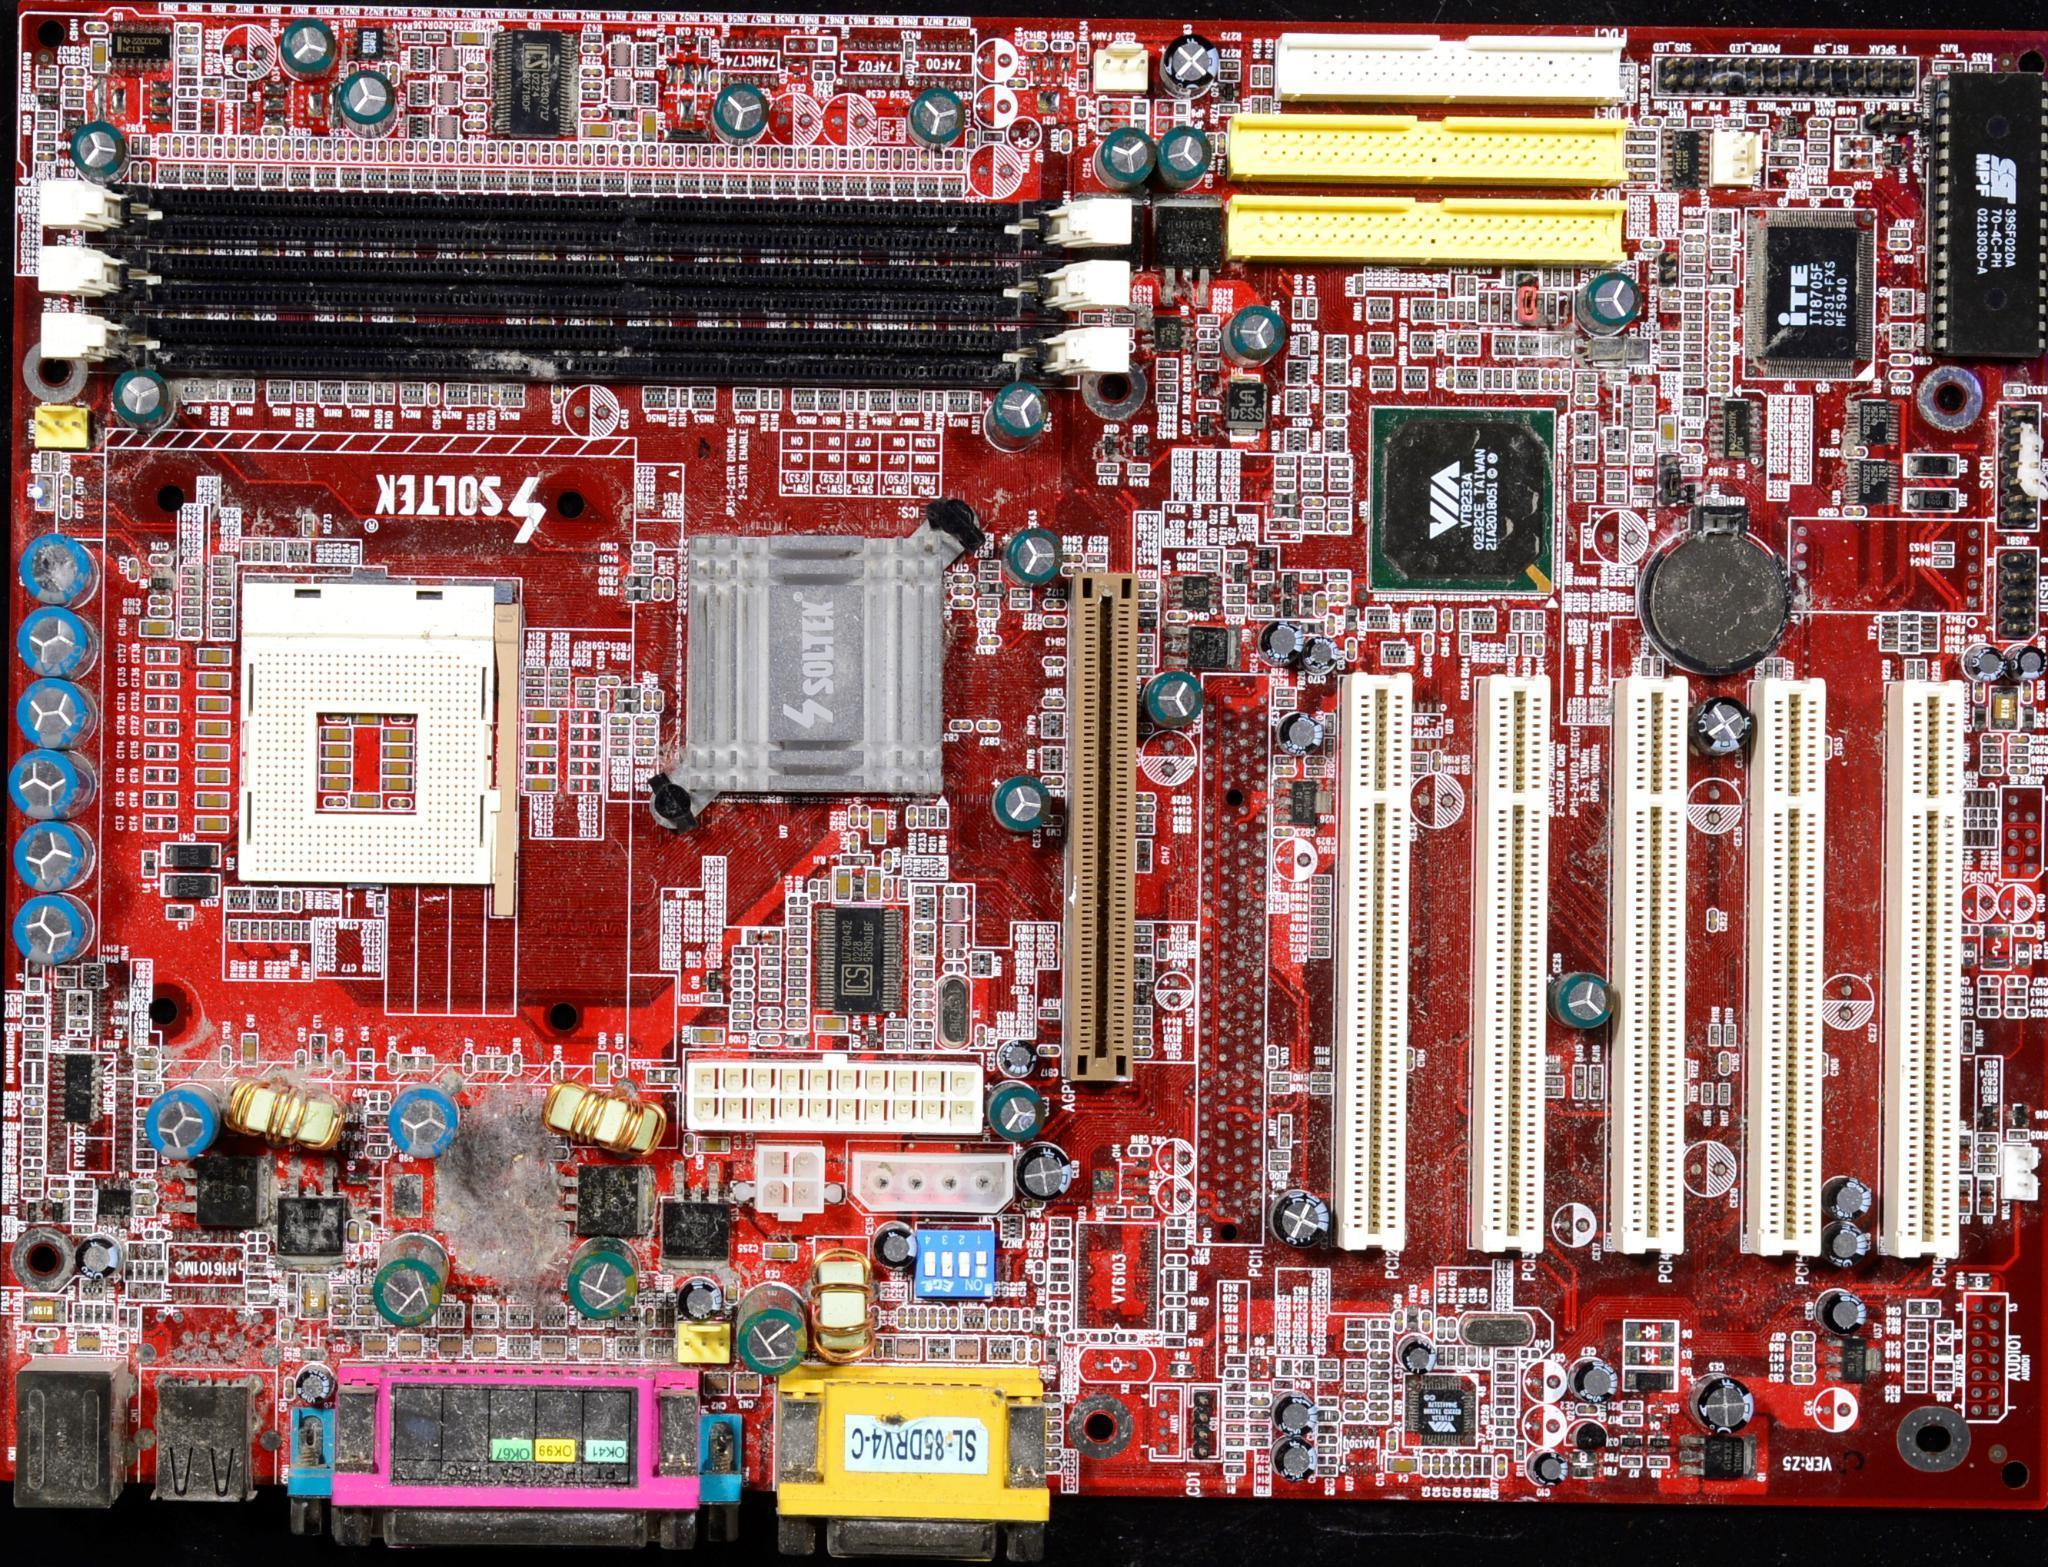Capacitor: (197, 647, 232, 666), (310, 1037, 329, 1071), (593, 1052, 611, 1086), (641, 110, 660, 141), (869, 810, 887, 842), (833, 868, 851, 900), (691, 1027, 723, 1045), (319, 757, 350, 775), (90, 40, 109, 69), (1659, 417, 1675, 451), (138, 619, 172, 635), (319, 726, 351, 743), (195, 744, 229, 760), (762, 1244, 798, 1259), (349, 792, 382, 808), (400, 1055, 433, 1071), (198, 791, 229, 808), (1385, 1458, 1417, 1474), (318, 742, 352, 757), (866, 868, 881, 900), (814, 1016, 846, 1031), (241, 1033, 256, 1065), (198, 720, 230, 735), (382, 759, 410, 776), (523, 743, 557, 757), (453, 32, 489, 45), (196, 769, 226, 784), (383, 727, 411, 743), (524, 775, 557, 788), (320, 776, 350, 790), (383, 777, 413, 791), (358, 1048, 372, 1078), (198, 697, 228, 711), (525, 708, 557, 721), (382, 744, 411, 758), (615, 120, 639, 136), (617, 131, 641, 147), (197, 675, 229, 687), (199, 818, 228, 831), (136, 1056, 159, 1072), (20, 1094, 46, 1108), (462, 118, 490, 131), (511, 1053, 526, 1077), (1494, 1383, 1518, 1398), (579, 106, 604, 120), (176, 23, 201, 37), (1391, 1310, 1406, 1333), (176, 45, 202, 58), (706, 69, 720, 93), (579, 80, 603, 94), (1014, 1337, 1028, 1361), (1496, 1345, 1518, 1360), (86, 22, 108, 37), (1709, 289, 1734, 302), (1024, 40, 1049, 53), (1049, 40, 1074, 53), (613, 1053, 625, 1080), (2006, 1006, 2029, 1020), (1345, 638, 1359, 661), (551, 1059, 564, 1083), (1682, 243, 1706, 256), (1323, 615, 1337, 637), (1421, 632, 1435, 654), (332, 1049, 344, 1074), (33, 151, 58, 163), (1832, 186, 1855, 199), (581, 65, 604, 78), (63, 65, 86, 78), (353, 713, 382, 723), (756, 1033, 780, 1045), (465, 73, 487, 86), (1035, 1260, 1046, 1286), (907, 1305, 920, 1327), (927, 1306, 940, 1328), (1705, 343, 1733, 353), (881, 848, 893, 871), (1368, 1349, 1391, 1361), (1478, 1345, 1490, 1368), (1369, 1368, 1392, 1380), (1368, 1400, 1391, 1412), (1683, 232, 1706, 244), (464, 103, 489, 114), (1000, 1306, 1011, 1331), (1367, 1389, 1392, 1400), (582, 44, 603, 57), (1314, 595, 1327, 616), (636, 715, 657, 728), (1059, 132, 1073, 151), (911, 1009, 933, 1021), (1367, 1410, 1389, 1422), (1431, 1453, 1443, 1475), (131, 160, 142, 184), (1708, 301, 1732, 312), (1275, 764, 1295, 777), (65, 76, 85, 89), (386, 1052, 399, 1072), (460, 1054, 473, 1074), (136, 1193, 156, 1206), (916, 1306, 929, 1326), (884, 875, 895, 898), (202, 87, 225, 98), (1978, 1006, 2001, 1017), (1268, 1044, 1279, 1067), (989, 1306, 1000, 1329), (1467, 1344, 1478, 1367), (1368, 1381, 1391, 1392), (1344, 1411, 1367, 1422), (1575, 393, 1598, 404), (1404, 1048, 1416, 1069), (1029, 1338, 1041, 1359), (1641, 238, 1662, 250), (1972, 680, 1985, 699), (913, 920, 935, 931), (1720, 1053, 1731, 1075), (1493, 1426, 1515, 1437), (1452, 1454, 1463, 1476), (1132, 1046, 1152, 1058), (643, 1306, 655, 1326), (1421, 1308, 1431, 1332), (141, 161, 153, 181), (1709, 332, 1733, 342), (1708, 363, 1732, 373), (599, 675, 623, 685), (948, 1306, 959, 1327), (1461, 1455, 1472, 1476), (1217, 132, 1227, 155), (178, 627, 201, 637), (859, 805, 871, 824), (731, 1011, 756, 1020), (848, 834, 859, 854), (915, 978, 935, 989), (1050, 1238, 1072, 1248), (896, 1304, 907, 1324), (1496, 1361, 1516, 1372), (1710, 373, 1730, 384), (758, 1018, 782, 1027), (1249, 1396, 1273, 1405), (976, 1025, 986, 1046), (47, 1188, 68, 1198), (1369, 1358, 1390, 1368), (1343, 1399, 1364, 1409), (1711, 236, 1732, 246), (2022, 681, 2033, 700), (2009, 765, 2032, 774), (294, 1049, 306, 1066), (356, 1285, 376, 1295), (1443, 1456, 1453, 1476), (1707, 354, 1732, 362), (466, 61, 486, 71), (653, 689, 663, 709), (1981, 764, 2003, 773), (363, 1220, 372, 1242), (1247, 1410, 1269, 1419), (1542, 368, 1551, 390), (1711, 384, 1729, 395), (1325, 584, 1349, 592), (905, 805, 915, 824), (1039, 1045, 1058, 1055), (787, 1019, 808, 1028), (940, 1307, 949, 1328), (1369, 1329, 1390, 1338), (1421, 1455, 1432, 1472), (850, 806, 859, 826), (1807, 118, 1827, 127), (644, 1337, 654, 1355), (1496, 1374, 1516, 1383), (1495, 1394, 1515, 1403), (1498, 1456, 1507, 1476), (1792, 1363, 1814, 1371), (873, 1338, 882, 1357), (1551, 371, 1560, 390), (600, 691, 609, 710), (1326, 594, 1347, 602), (1223, 1369, 1245, 1376), (1134, 1037, 1151, 1046), (25, 1106, 41, 1115), (359, 1307, 376, 1313)
Connector: (1745, 675, 1832, 1264), (1337, 657, 1418, 1257), (1884, 676, 1967, 1236), (1615, 673, 1692, 1263), (1470, 666, 1545, 1267)
IC: (679, 533, 943, 795), (1364, 400, 1562, 601), (1746, 206, 1874, 380), (817, 904, 902, 1013), (491, 31, 573, 136), (46, 1051, 112, 1136), (1405, 1370, 1477, 1447), (113, 21, 178, 76), (1271, 778, 1336, 827), (1709, 398, 1759, 461), (1660, 129, 1710, 191), (1825, 1333, 1883, 1382), (1845, 398, 1899, 445), (1846, 458, 1901, 504), (1166, 574, 1220, 614), (345, 24, 397, 62), (95, 1179, 130, 1228), (1141, 315, 1185, 352), (1883, 142, 1909, 170), (1036, 89, 1060, 115), (149, 570, 174, 592)
Resistor: (34, 139, 60, 156), (1504, 636, 1521, 658), (136, 1070, 159, 1086), (1094, 463, 1122, 476), (1156, 380, 1180, 395), (128, 133, 143, 156), (401, 31, 424, 46), (32, 122, 58, 135), (1272, 695, 1298, 708), (1223, 1393, 1247, 1407), (1444, 1343, 1459, 1365), (1155, 368, 1180, 381), (1632, 451, 1655, 465), (135, 1086, 161, 1098), (1809, 155, 1833, 168), (1272, 686, 1298, 698), (462, 88, 490, 99), (23, 1136, 45, 1150), (1198, 359, 1218, 374), (581, 93, 604, 106), (1977, 985, 2000, 998), (294, 381, 307, 404), (770, 388, 783, 411), (1197, 398, 1220, 411), (633, 562, 656, 575), (1327, 568, 1350, 581), (1975, 996, 2002, 1007), (2005, 986, 2029, 998), (19, 1167, 43, 1179), (1691, 115, 1715, 127), (1779, 141, 1803, 153), (1682, 252, 1706, 264), (934, 389, 946, 413), (857, 389, 869, 413), (177, 55, 201, 67), (33, 109, 59, 120), (72, 1221, 94, 1234), (1633, 432, 1655, 445), (1248, 96, 1263, 115), (1276, 479, 1296, 493), (1457, 610, 1471, 630), (1248, 1437, 1271, 1449), (1635, 143, 1658, 155), (581, 32, 604, 44), (758, 388, 770, 411), (35, 64, 58, 76), (1222, 1422, 1247, 1433), (787, 1006, 808, 1019), (1708, 1023, 1721, 1044), (1701, 1084, 1714, 1105), (1434, 1345, 1447, 1366), (141, 134, 154, 155), (1303, 477, 1324, 490), (1254, 604, 1275, 617), (1133, 1004, 1152, 1018), (1456, 1345, 1468, 1367), (1633, 170, 1657, 181), (471, 384, 483, 406), (1156, 392, 1178, 404), (972, 391, 984, 413), (177, 36, 201, 47), (1510, 610, 1522, 632), (1534, 610, 1546, 632), (548, 667, 570, 679), (1621, 1399, 1641, 1412), (35, 77, 58, 88), (1224, 1436, 1247, 1447), (1197, 341, 1220, 352), (1302, 467, 1325, 478), (1197, 559, 1220, 570), (980, 560, 1003, 571), (1251, 570, 1274, 581), (1977, 1152, 1998, 1164), (1318, 1442, 1339, 1454), (1303, 521, 1324, 533), (1932, 554, 1953, 566), (1523, 634, 1535, 655), (1219, 59, 1240, 71), (2009, 745, 2030, 757), (1408, 762, 1429, 774), (1223, 1463, 1248, 1473), (1632, 486, 1657, 496), (1135, 933, 1154, 946), (1264, 65, 1275, 87), (229, 920, 240, 942), (1887, 228, 1909, 239), (668, 387, 679, 409), (1301, 455, 1323, 466), (1329, 468, 1351, 479), (1605, 492, 1627, 503), (632, 554, 654, 565), (211, 627, 233, 638), (1218, 69, 1240, 80), (1217, 105, 1241, 115), (1974, 1164, 1998, 1174), (33, 131, 57, 141), (1806, 142, 1830, 152), (1634, 158, 1658, 168), (1683, 300, 1703, 312), (1710, 311, 1730, 323), (842, 390, 854, 410), (299, 923, 312, 941), (633, 747, 659, 756), (760, 946, 781, 957), (24, 1039, 45, 1050), (1269, 1150, 1290, 1161), (331, 1314, 352, 1325), (1808, 129, 1829, 140), (1684, 220, 1705, 231), (1684, 254, 1705, 265), (1633, 385, 1654, 396), (1275, 467, 1296, 478), (1574, 470, 1595, 481), (1606, 470, 1627, 481), (1933, 541, 1954, 552), (181, 617, 202, 628), (1459, 633, 1470, 654), (812, 60, 833, 71), (526, 687, 547, 698), (2009, 753, 2030, 764), (1778, 156, 1801, 166), (1110, 314, 1133, 324), (1275, 455, 1298, 465), (666, 35, 676, 58), (1574, 481, 1597, 491), (634, 727, 657, 737), (1712, 256, 1731, 268), (1684, 342, 1703, 354), (902, 40, 914, 59), (1681, 312, 1706, 321), (1197, 316, 1222, 325), (249, 920, 260, 940), (787, 925, 809, 935), (788, 967, 808, 978), (759, 978, 779, 989), (732, 1000, 752, 1011), (884, 1031, 906, 1041), (1345, 1380, 1365, 1391), (1249, 1423, 1271, 1433), (1661, 301, 1681, 312), (426, 32, 446, 43), (679, 389, 690, 409), (923, 391, 934, 411), (1329, 497, 1349, 508), (1009, 588, 1031, 598), (978, 598, 1000, 608), (759, 957, 783, 966), (1261, 96, 1273, 114), (1661, 341, 1679, 353), (1604, 480, 1628, 489), (524, 697, 548, 706), (1136, 813, 1157, 823), (1726, 1024, 1736, 1045), (25, 1030, 46, 1040), (1271, 1073, 1292, 1083), (2009, 1130, 2030, 1140), (73, 1209, 94, 1219), (1447, 1318, 1457, 1339), (1682, 322, 1703, 332), (1156, 359, 1177, 369), (218, 381, 228, 402), (1634, 395, 1655, 405), (1128, 463, 1149, 473), (1299, 572, 1320, 582), (180, 606, 201, 616), (610, 746, 631, 756), (1251, 65, 1261, 86), (1320, 1369, 1339, 1380), (1661, 331, 1680, 342), (1682, 396, 1701, 407), (1331, 480, 1350, 491), (1304, 508, 1323, 519), (1223, 1410, 1246, 1419), (307, 381, 316, 404), (1634, 416, 1657, 425), (789, 955, 806, 967), (1270, 1083, 1290, 1093), (1668, 117, 1688, 127), (1345, 1360, 1365, 1370), (1620, 1414, 1640, 1424), (1685, 264, 1705, 274), (1683, 291, 1703, 301), (1083, 314, 1103, 324), (373, 382, 383, 402), (1634, 407, 1654, 417), (1226, 550, 1246, 560), (1227, 605, 1247, 615), (1524, 611, 1534, 631), (577, 679, 597, 689), (575, 697, 595, 707), (609, 736, 629, 746), (1304, 766, 1326, 775), (1135, 923, 1153, 934), (1133, 1015, 1151, 1026), (731, 1020, 753, 1029), (21, 1127, 43, 1136), (1635, 131, 1657, 140), (1681, 425, 1699, 436), (213, 573, 231, 584), (1226, 594, 1248, 603), (609, 726, 631, 735), (1980, 744, 2002, 753), (1517, 1439, 1525, 1463), (1719, 1084, 1729, 1103), (1502, 370, 1512, 389), (1682, 376, 1701, 386), (550, 687, 569, 697), (1408, 753, 1427, 763), (787, 916, 808, 925), (292, 920, 301, 941), (787, 935, 808, 944), (786, 986, 807, 995), (760, 990, 781, 999), (886, 1018, 907, 1027), (1310, 1073, 1331, 1082), (1439, 1320, 1448, 1341), (481, 385, 490, 406), (1605, 453, 1626, 462), (1329, 511, 1350, 520), (211, 557, 232, 566), (180, 567, 201, 576), (1010, 599, 1031, 608), (1980, 754, 2001, 763), (1343, 1370, 1366, 1378), (1223, 1449, 1246, 1457), (701, 992, 721, 1001), (333, 1286, 353, 1295), (1793, 1353, 1813, 1362), (1495, 1416, 1515, 1425), (1710, 323, 1730, 332), (1682, 333, 1702, 342), (1683, 364, 1703, 373), (1482, 369, 1492, 387), (1200, 549, 1220, 558), (212, 585, 232, 594), (182, 587, 202, 596), (552, 697, 572, 706), (1274, 755, 1294, 764), (2006, 998, 2028, 1006), (1976, 1136, 1998, 1144), (1807, 187, 1829, 195), (1329, 457, 1351, 465), (240, 920, 249, 939), (260, 920, 269, 939), (280, 922, 289, 941), (1724, 118, 1743, 127), (1838, 120, 1857, 129), (656, 1307, 665, 1326), (1794, 1344, 1813, 1353), (1493, 370, 1502, 389), (386, 383, 395, 402), (1576, 491, 1595, 500), (213, 607, 232, 616), (1915, 659, 1925, 676), (1310, 1084, 1331, 1092), (655, 1336, 663, 1357), (181, 576, 202, 584), (1224, 584, 1245, 592), (549, 679, 570, 687), (524, 678, 547, 685), (1137, 824, 1153, 834), (759, 969, 779, 977), (357, 1317, 377, 1325), (1319, 1360, 1339, 1368), (980, 572, 1000, 580), (1907, 659, 1915, 679), (1680, 407, 1702, 414), (358, 1296, 375, 1305), (929, 807, 937, 826), (939, 808, 947, 827), (271, 921, 279, 940), (1712, 248, 1731, 256), (182, 597, 201, 605), (526, 667, 545, 675), (212, 617, 233, 624), (1314, 1469, 1338, 1475), (1659, 355, 1677, 363), (787, 907, 807, 914), (787, 978, 807, 985), (22, 1179, 42, 1186), (212, 566, 232, 573), (576, 689, 596, 696), (1271, 1162, 1288, 1170), (1250, 1384, 1269, 1391), (1135, 1027, 1150, 1035), (1494, 1441, 1518, 1446), (918, 807, 925, 824), (134, 1206, 154, 1211)
Transistor: (166, 1150, 266, 1232), (273, 1162, 350, 1262), (660, 1164, 733, 1266), (560, 1165, 651, 1233), (1679, 1430, 1757, 1481), (1173, 625, 1236, 671), (1098, 432, 1123, 464), (1125, 431, 1151, 459), (1249, 546, 1278, 571), (260, 77, 285, 102), (261, 99, 289, 121), (700, 969, 725, 993), (1196, 374, 1221, 397), (1224, 562, 1250, 584), (2008, 1104, 2030, 1128), (859, 1028, 884, 1049), (783, 58, 809, 78), (1976, 1104, 1998, 1127), (1217, 80, 1238, 104), (1190, 415, 1216, 434), (1276, 572, 1298, 594), (1778, 117, 1803, 136), (1252, 584, 1273, 605), (1646, 1399, 1670, 1417), (1619, 1434, 1643, 1452), (1646, 1433, 1672, 1449), (1135, 983, 1152, 1007), (1280, 594, 1297, 618), (678, 34, 697, 54)
